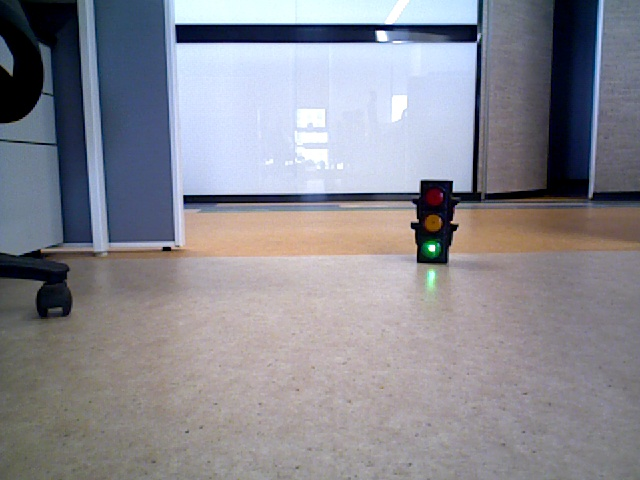green: (416, 183, 443, 257)
